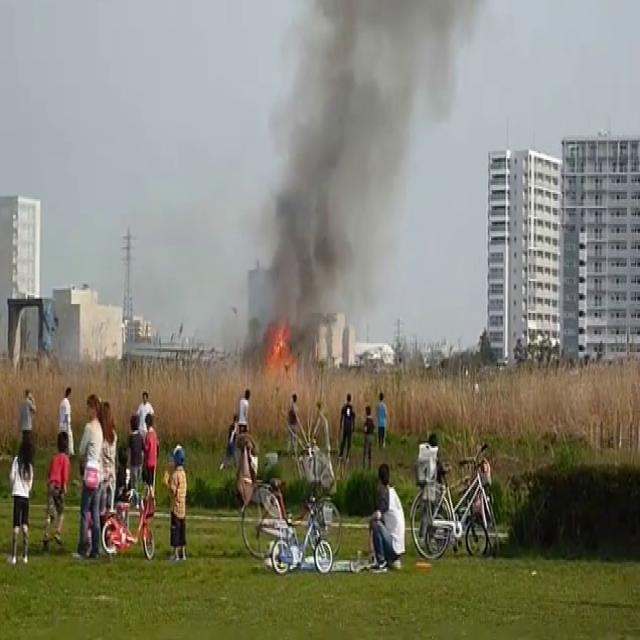Fire: (266, 316, 298, 376)
Smoke: (235, 0, 432, 357)
